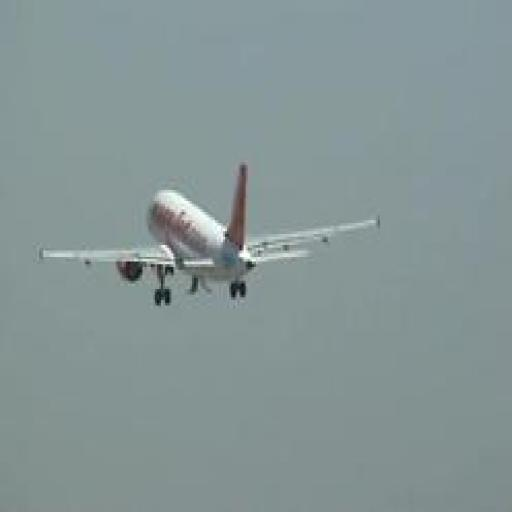aircraft: (39, 162, 382, 308)
